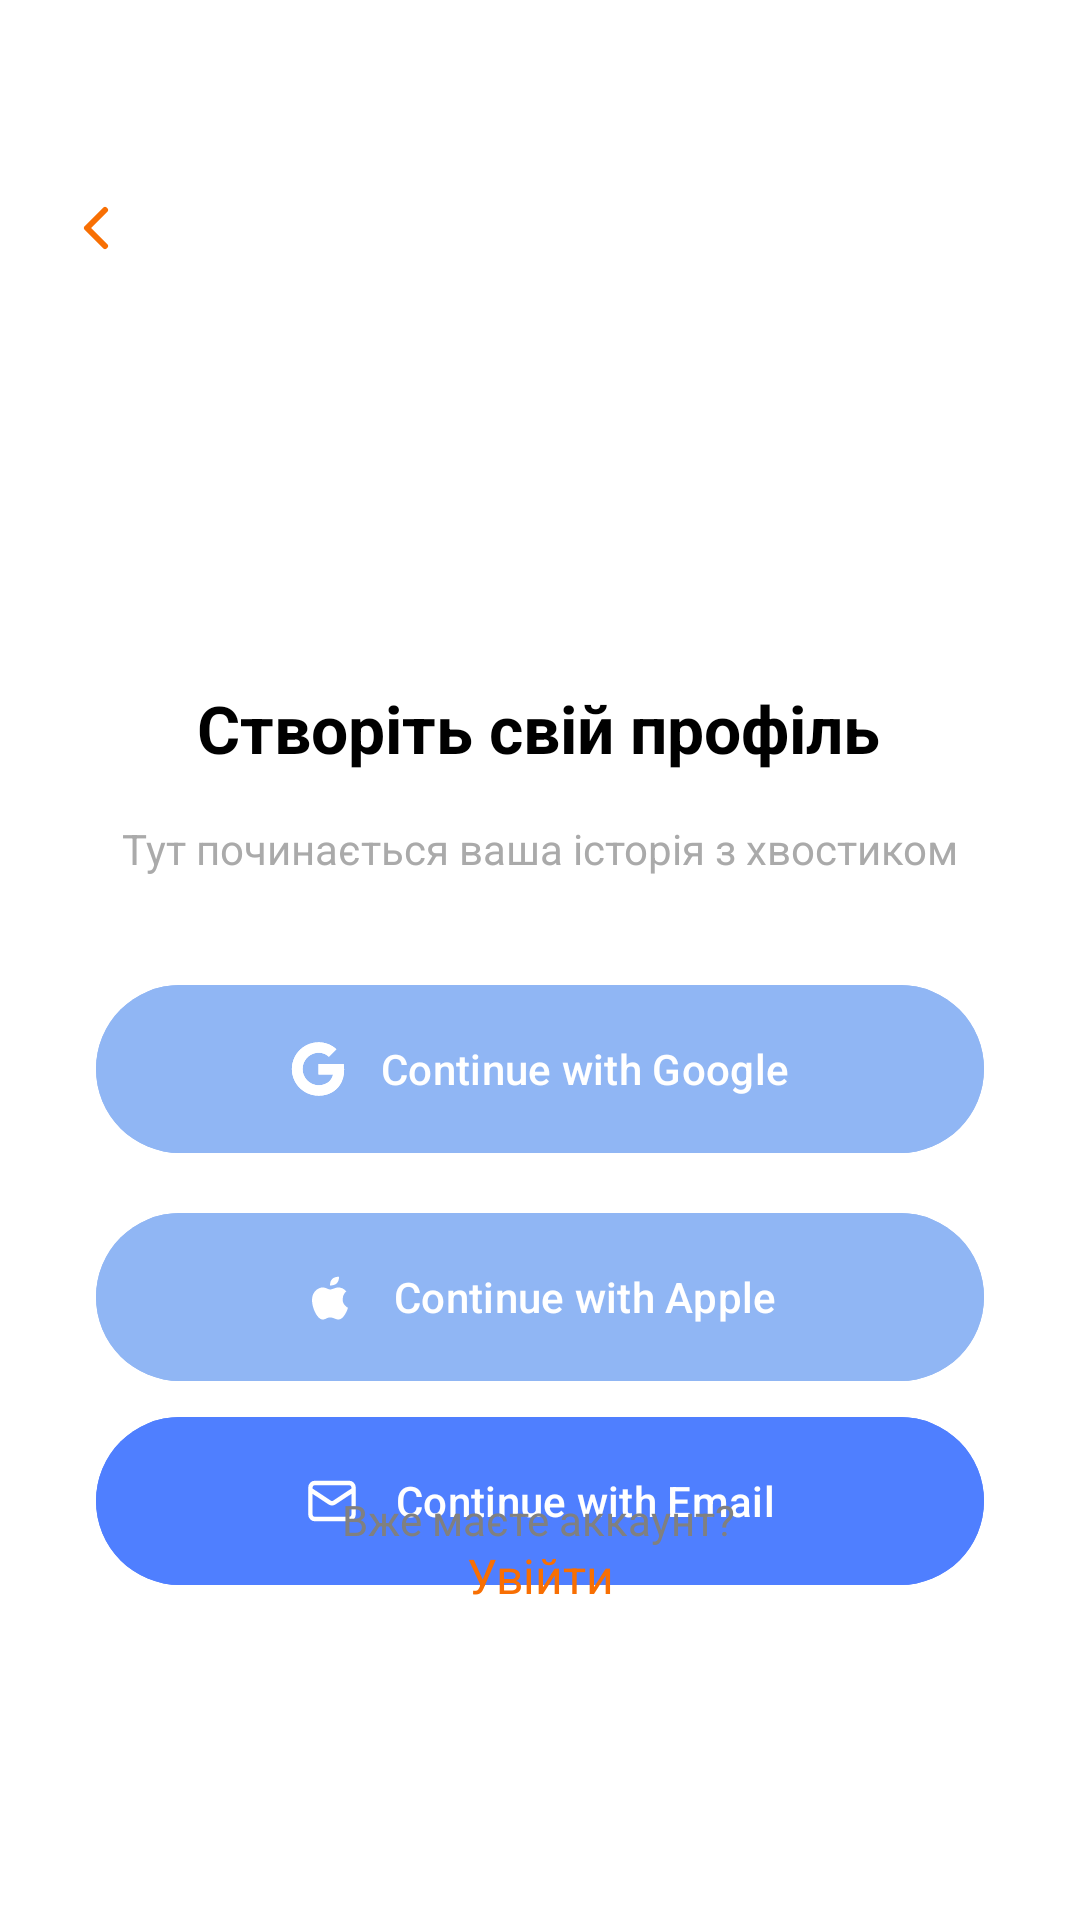

Screen size 1080w x 1920h. Icon name, then its center in pixels as point (x, y):
back: point (96, 228)
